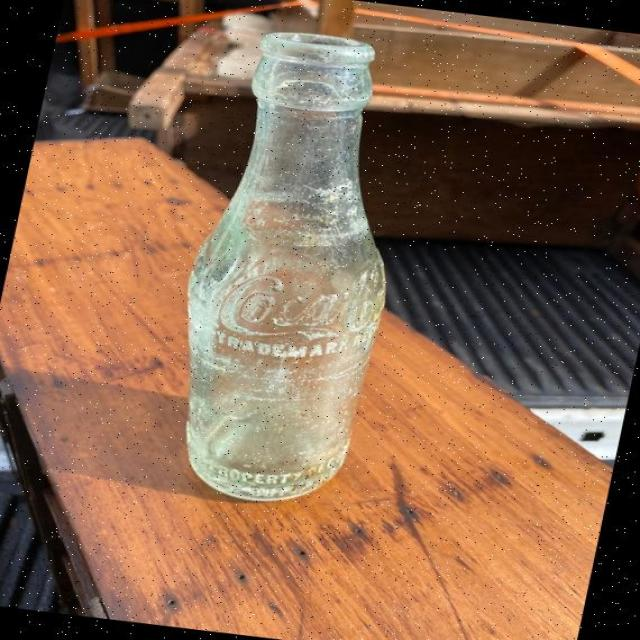coca-cola: (136, 24, 442, 511)
